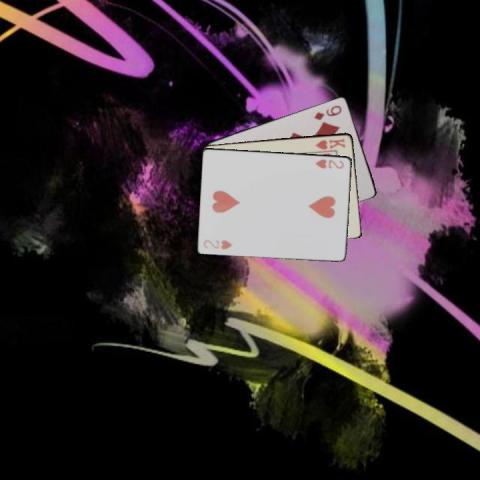2h: (201, 236, 234, 250), (313, 156, 345, 170)
9d: (312, 102, 344, 121)
Kh: (312, 134, 346, 150)
